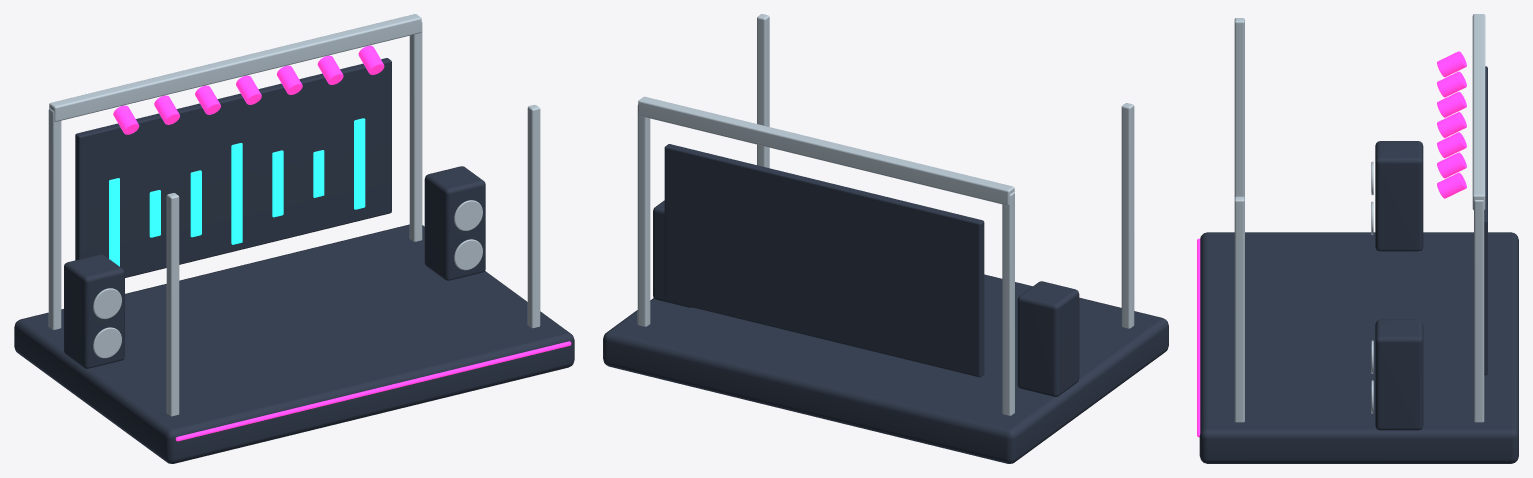
File: free-festival-stage.glb
3 views of the same model, side by side, from view 1: azimuth 30°, elevation 25°; view 2: azimuth 150°, elevation 25°; view 3: azimuth 270°, elevation 25° (orthographic).
Visible parts, largest first — view 1: festival-stage; view 2: festival-stage; view 3: festival-stage.
Part boxes in pixels (left/top/right/bottom): festival-stage: left=14, top=14, right=574, bottom=463; festival-stage: left=603, top=14, right=1168, bottom=463; festival-stage: left=1197, top=14, right=1518, bottom=463.
Bounding box in the file's own units: 6 × 3.61 × 4.04.
